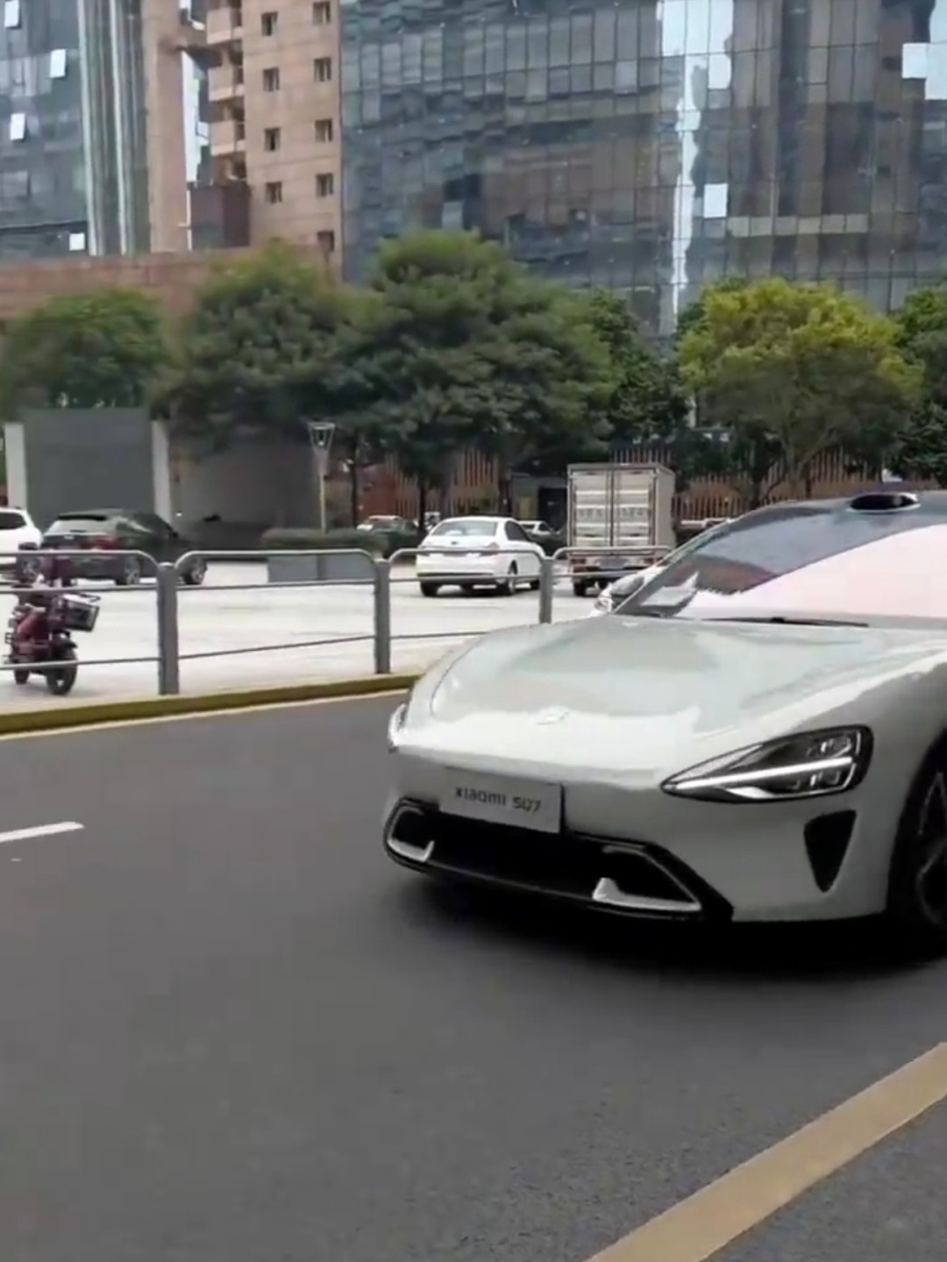other: (59, 503, 221, 592), (415, 508, 554, 610)
su7: (381, 486, 947, 988)
